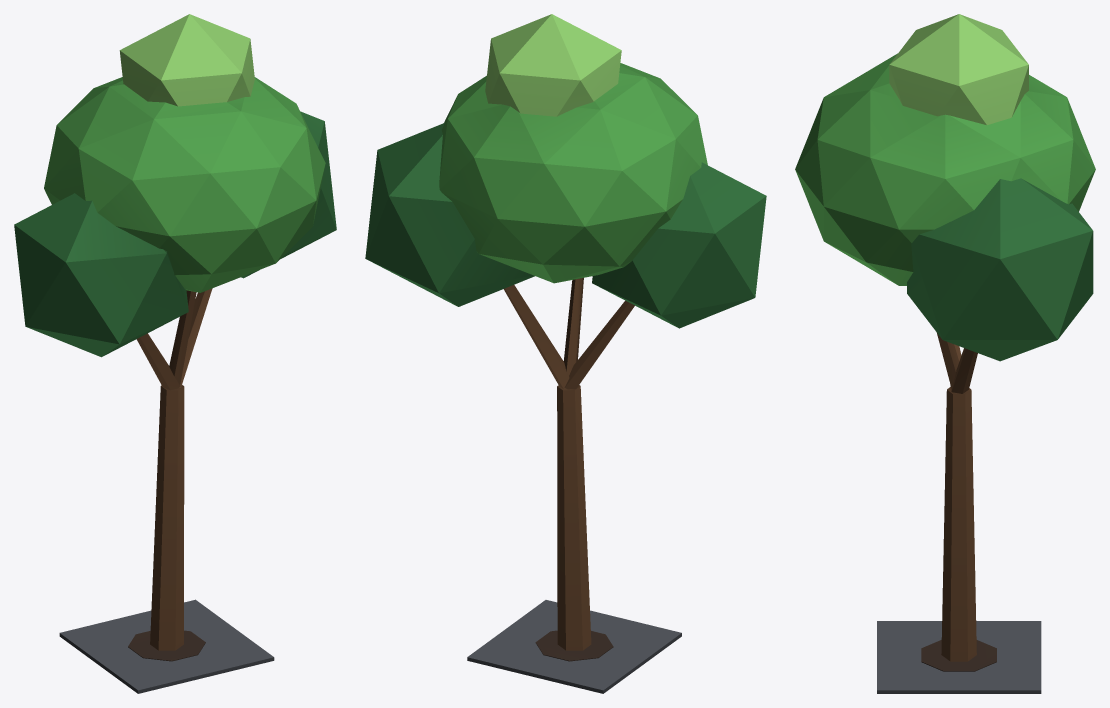
File: tree_street_01.glb
3 views of the same model, side by side, from view 1: azimuth 30°, elevation 25°; view 2: azimuth 150°, elevation 25°; view 3: azimuth 270°, elevation 25° (orthographic). The views are drawn at different scales.
Parts seen in each view (by area): view 1: tree_street_01_mesh; view 2: tree_street_01_mesh; view 3: tree_street_01_mesh.
Boxes of the visible parts, x1,y1,x2,y2 form: tree_street_01_mesh: (14,14,336,693); tree_street_01_mesh: (365,14,766,693); tree_street_01_mesh: (795,14,1095,693).
Bounding box in the file's own units: 2.99 × 5.3 × 2.2.
1 material, 1 textured.
